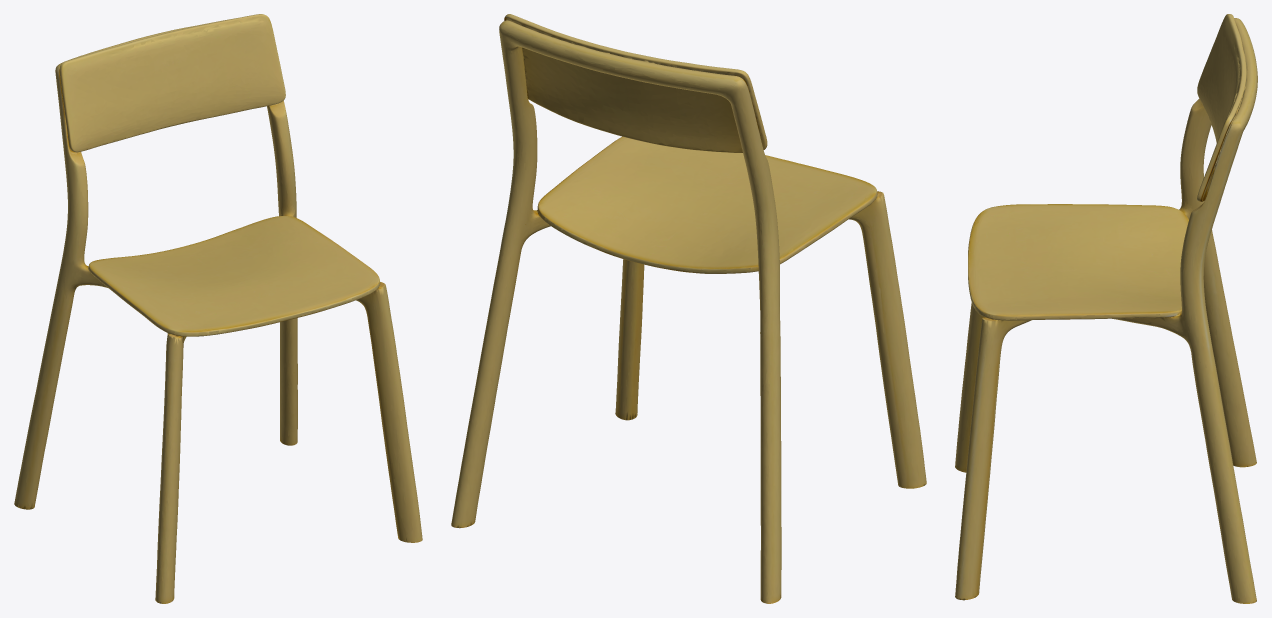
Rendered from tripo_convert_16e93508-fab9-4d1d-8f36-9057f068f9df.fbx.
3 renders of one model, left to right at view 1: azimuth 30°, elevation 25°; view 2: azimuth 150°, elevation 25°; view 3: azimuth 270°, elevation 25°, orthographic. The views are drawn at different scales.
Parts seen in each view (by area): view 1: tripo_node_16e93508; view 2: tripo_node_16e93508; view 3: tripo_node_16e93508.
Boxes of the visible parts, x1,y1,x2,y2 form: tripo_node_16e93508: (14, 14, 422, 603); tripo_node_16e93508: (451, 14, 926, 603); tripo_node_16e93508: (955, 14, 1257, 603).
Size of the model in its own units: 65.01 by 57.55 by 97.79.
Materials: 1 (1 with a texture image).
